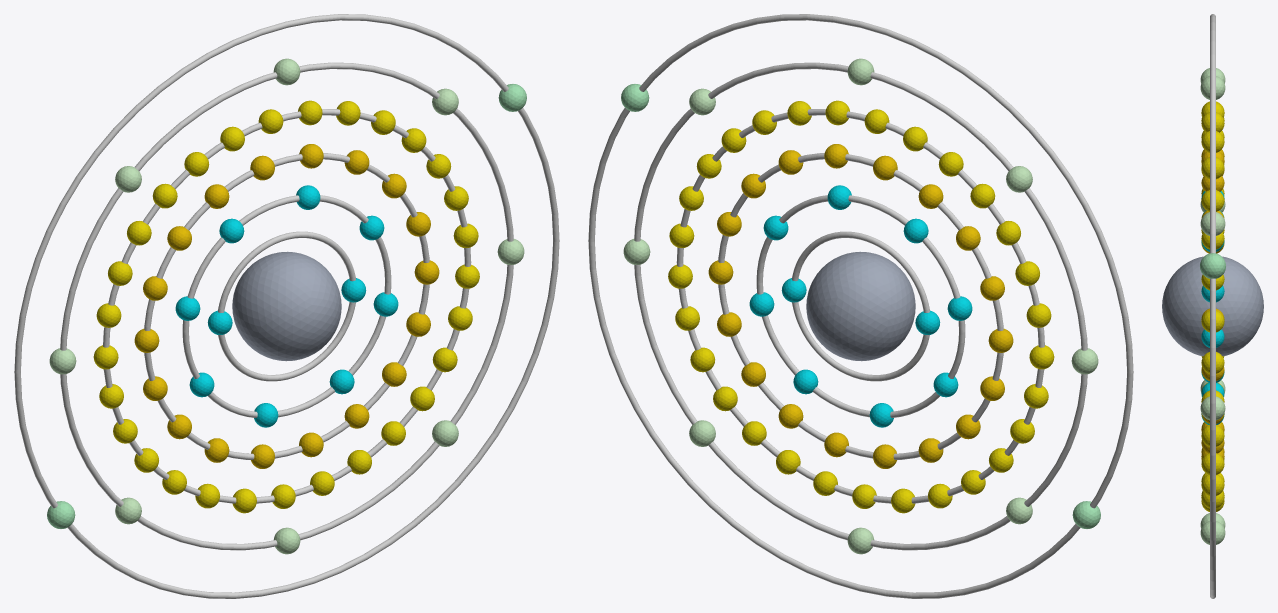
3 renders of one model, left to right at view 1: azimuth 30°, elevation 25°; view 2: azimuth 150°, elevation 25°; view 3: azimuth 270°, elevation 25°, orthographic. The views are drawn at different scales.
Visible parts, largest first — view 1: world; view 2: world; view 3: world.
Boxes of the visible parts, box(x1,y1,x2,y2) form: world: box(14, 14, 559, 598); world: box(588, 14, 1133, 598); world: box(1162, 14, 1263, 598).
Bounding box in the file's own units: 2.53 × 2.53 × 0.44.
